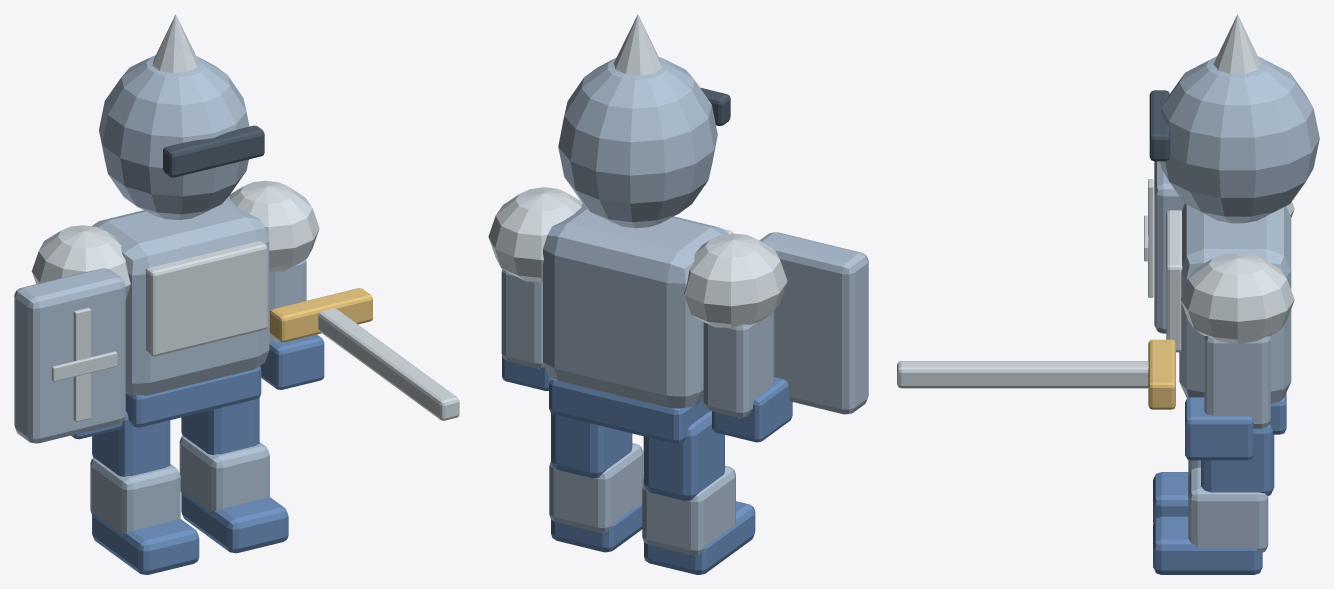
Rendered from enemy_guard.glb.
3 views of the same model, side by side, from view 1: azimuth 30°, elevation 25°; view 2: azimuth 150°, elevation 25°; view 3: azimuth 270°, elevation 25° (orthographic). The views are drawn at different scales.
Visible parts, largest first — view 1: Helm, TowerShield, Chest, Breastplate, Greave, Greave.001, Sword, Shoulder.001, Waist, Boot, Boot.001, Shoulder (+9 smaller); view 2: Chest, Helm, TowerShield, Shoulder, Arm, Greave.001, Greave, Shoulder.001, Waist, Thigh, Thigh.001, Arm.001 (+6 smaller); view 3: Helm, Chest, Shoulder.001, Sword, Arm.001, Greave.001, Boot.001, Gauntlet.001, Thigh.001, TowerShield, Breastplate, Crossguard (+5 smaller).
Boxes of the visible parts, x1,y1,x2,y2 form: Helm: (99, 55, 249, 219); TowerShield: (14, 268, 125, 443); Chest: (91, 197, 269, 395); Breastplate: (145, 241, 267, 356); Greave: (90, 458, 180, 533); Greave.001: (179, 436, 269, 511); Sword: (318, 308, 459, 420); Shoulder.001: (228, 180, 319, 271); Waist: (125, 366, 261, 427); Boot: (92, 514, 199, 574); Boot.001: (181, 492, 288, 553); Shoulder: (31, 225, 130, 299); Chest: (543, 204, 728, 408); Helm: (558, 57, 717, 228); TowerShield: (759, 232, 868, 414); Shoulder: (684, 233, 787, 327); Arm: (703, 312, 774, 417); Greave.001: (549, 443, 643, 532); Greave: (642, 465, 735, 555); Shoulder.001: (488, 187, 582, 282); Waist: (549, 377, 709, 443); Thigh: (643, 411, 724, 500); Thigh.001: (551, 413, 632, 478); Arm.001: (501, 269, 544, 368); Helm: (1160, 56, 1319, 223); Chest: (1179, 204, 1291, 403); Shoulder.001: (1180, 252, 1294, 344); Sword: (897, 361, 1148, 388); Arm.001: (1204, 336, 1270, 428); Greave.001: (1188, 467, 1268, 552); Boot.001: (1153, 516, 1262, 574); Gauntlet.001: (1185, 397, 1253, 460); Thigh.001: (1201, 425, 1274, 495); TowerShield: (1154, 161, 1184, 333); Breastplate: (1166, 210, 1182, 352); Crossguard: (1148, 339, 1175, 409).
Size of the model in its own units: 1.75 by 2.54 by 1.85.
